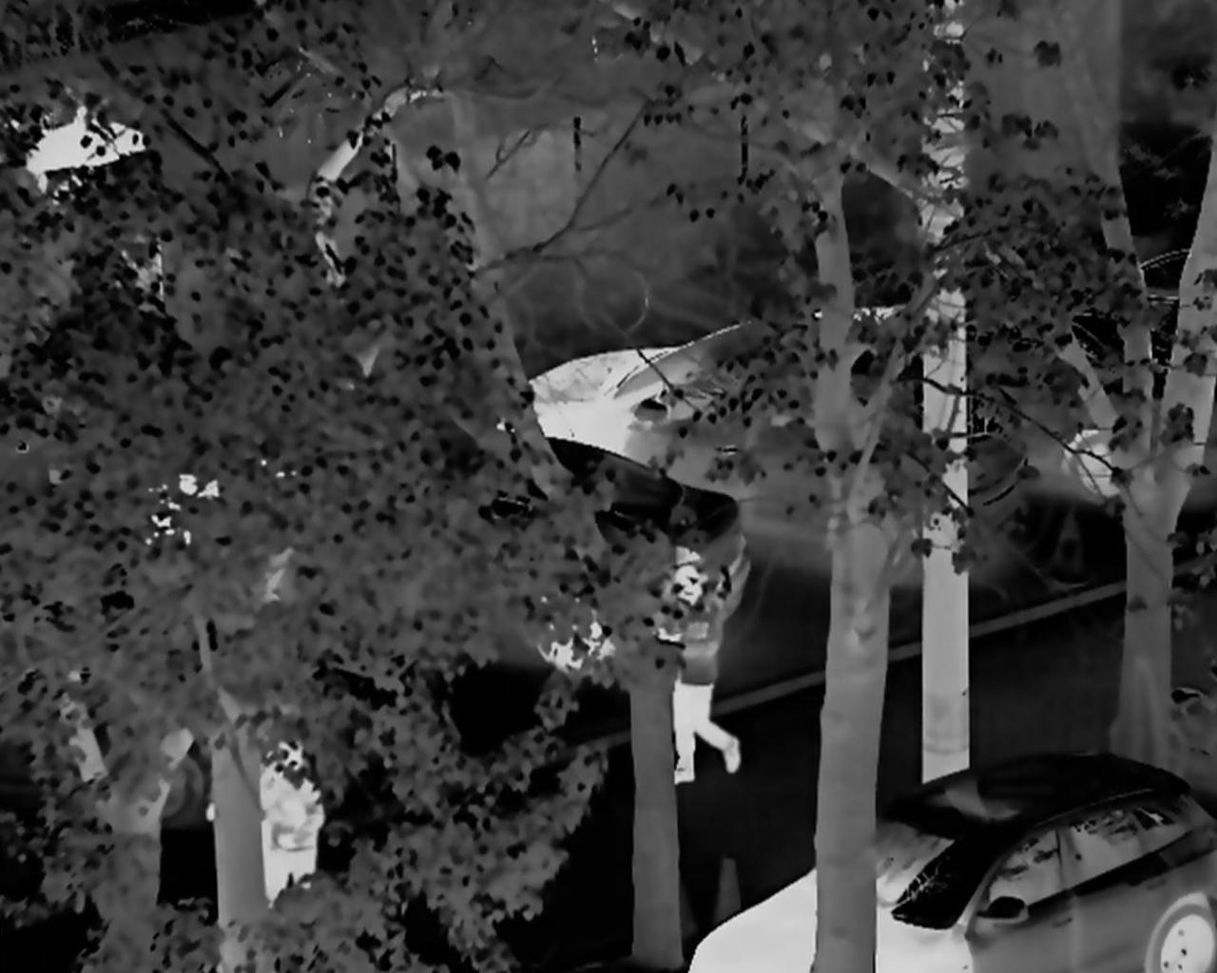person: (638, 550, 741, 790), (239, 743, 325, 928)
